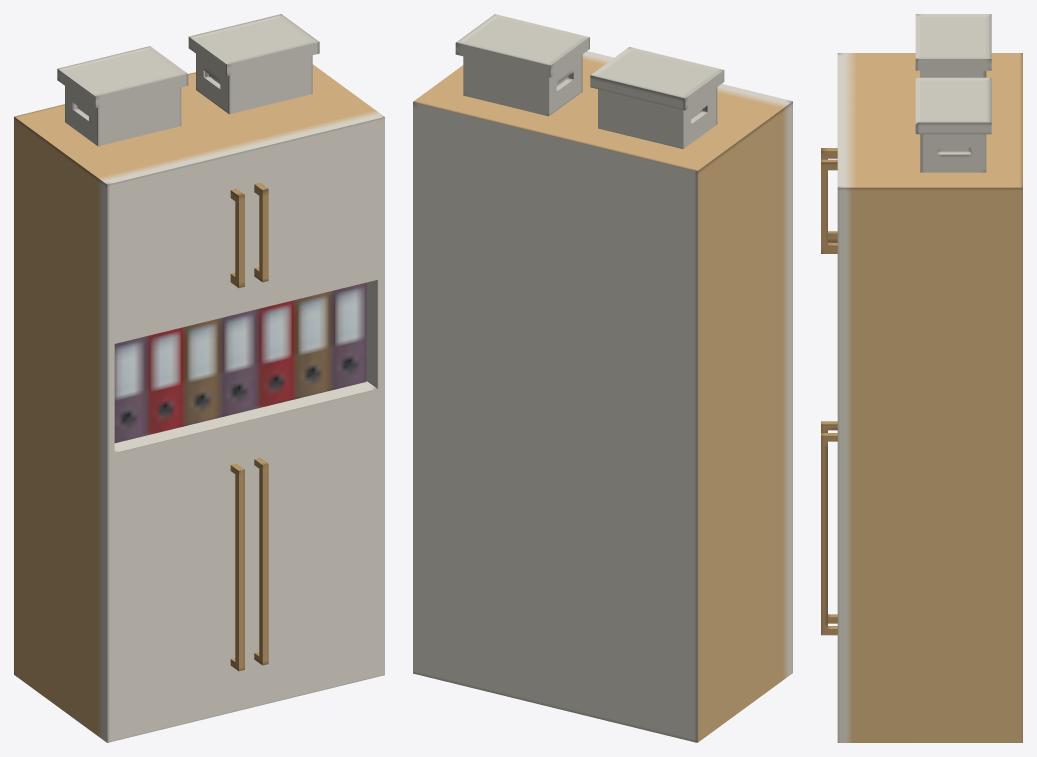
The model's file is cupboard_a.fbx.
3 renders of one model, left to right at view 1: azimuth 30°, elevation 25°; view 2: azimuth 150°, elevation 25°; view 3: azimuth 270°, elevation 25°, orthographic. The views are drawn at different scales.
Visible parts, largest first — view 1: Cube.124; view 2: Cube.124; view 3: Cube.124.
Boxes of the visible parts, <box> form: Cube.124: <box>14,14,384,742</box>; Cube.124: <box>413,14,792,742</box>; Cube.124: <box>821,14,1022,742</box>.
Bounding box in the file's own units: 144 × 303 × 91.3.
1 material, 1 textured.
